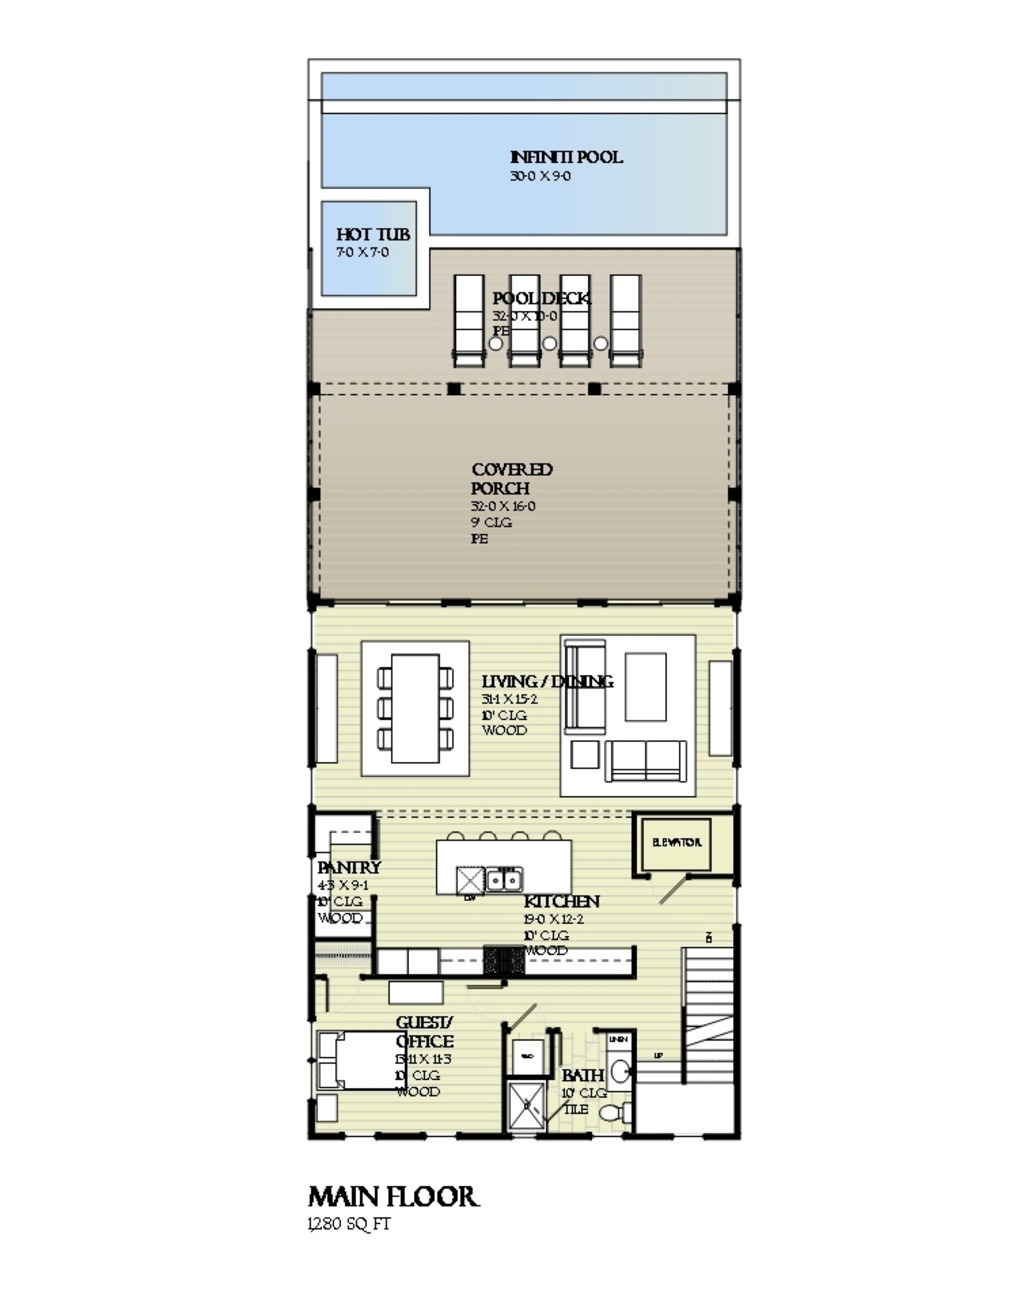bed: (311, 1022, 410, 1096)
dining_table: (367, 649, 456, 763)
kitchen_bar: (432, 825, 577, 908)
large_sink: (597, 1088, 630, 1129)
large_sofa: (562, 640, 615, 729), (604, 734, 690, 785)
stairs: (640, 945, 729, 1093)
